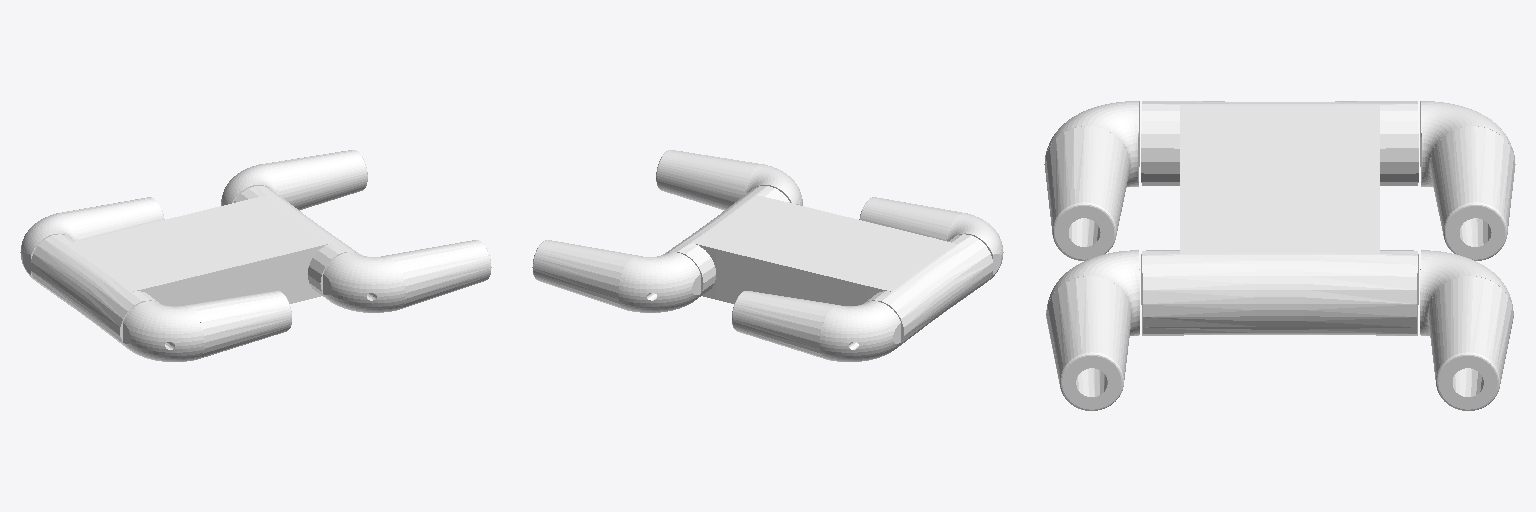
robot.urdf — 1_degree:
<?xml version="1.0" encoding="utf-8"?>
<!-- This URDF was automatically created by SolidWorks to URDF Exporter! Originally created by [author] ([email redacted]) 
     Commit Version: 1.5.1-0-g916b5db  Build Version: 1.5.7152.31018
     For more information, please see http://wiki.ros.org/sw_urdf_exporter -->
<robot
  name="1_degree">
  <link
    name="base_link">
    <inertial>
      <origin
        xyz="3.4694E-17 4.0355E-09 -3.4694E-18"
        rpy="0 0 0" />
      <mass
        value="2.942" />
      <inertia
        ixx="0.0103161"
        ixy="4.4465E-18"
        ixz="-1.4804E-10"
        iyy="0.0373964"
        iyz="7.5414E-18"
        izz="0.0453257" />
    </inertial>
    <visual>
      <origin
        xyz="0 0 0"
        rpy="0 0 0" />
      <geometry>
        <mesh
          filename="package://1_degree/meshes/base_link.STL" />
      </geometry>
      <material
        name="">
        <color
          rgba="1 1 1 1" />
      </material>
    </visual>
    <collision>
      <origin
        xyz="0 0 0"
        rpy="0 0 0" />
      <geometry>
        <mesh
          filename="package://1_degree/meshes/base_link.STL" />
      </geometry>
    </collision>
  </link>
  <link
    name="left_front_link">
    <inertial>
      <origin
        xyz="-2.165E-08 0.057449 -0.035013"
        rpy="0 0 0" />
      <mass
        value="0.092" />
      <inertia
        ixx="0.0002604"
        ixy="8.5415E-10"
        ixz="4.8859E-10"
        iyy="0.0000519"
        iyz="1.91E-05"
        izz="0.0002583" />
    </inertial>
    <visual>
      <origin
        xyz="0 0 0"
        rpy="0 0 0" />
      <geometry>
        <mesh
          filename="package://1_degree/meshes/left_front_link.STL" />
      </geometry>
      <material
        name="">
        <color
          rgba="1 1 1 1" />
      </material>
    </visual>
    <collision>
      <origin
        xyz="0 0 0"
        rpy="0 0 0" />
      <geometry>
        <mesh
          filename="package://1_degree/meshes/left_front_link.STL" />
      </geometry>
    </collision>
  </link>
  <joint
    name="left_front_leg"
    type="continuous">
    <origin
      xyz="0.1318 0.10298 0"
      rpy="1.5708 1.5708 0" />
    <parent
      link="base_link" />
    <child
      link="left_front_link" />
    <axis
      xyz="0 0.017452 -0.99985" />
    <limit
      effort="5"
      velocity="487" />
  </joint>
  <link
    name="right_front_link">
    <inertial>
      <origin
        xyz="2.165E-08 0.057449 0.035013"
        rpy="0 0 0" />
      <mass
        value="0.092" />
      <inertia
        ixx="0.0002604"
        ixy="-8.5415E-10"
        ixz="4.8859E-10"
        iyy="0.0000519"
        iyz="-1.91E-05"
        izz="0.0002583" />
    </inertial>
    <visual>
      <origin
        xyz="0 0 0"
        rpy="0 0 0" />
      <geometry>
        <mesh
          filename="package://1_degree/meshes/right_front_link.STL" />
      </geometry>
      <material
        name="">
        <color
          rgba="1 1 1 1" />
      </material>
    </visual>
    <collision>
      <origin
        xyz="0 0 0"
        rpy="0 0 0" />
      <geometry>
        <mesh
          filename="package://1_degree/meshes/right_front_link.STL" />
      </geometry>
    </collision>
  </link>
  <joint
    name="right_front_leg"
    type="continuous">
    <origin
      xyz="0.1318 -0.10298 0"
      rpy="1.5708 1.5708 0" />
    <parent
      link="base_link" />
    <child
      link="right_front_link" />
    <axis
      xyz="0 0.017452 0.99985" />
    <limit
      effort="5"
      velocity="487" />
  </joint>
  <link
    name="right_back_link">
    <inertial>
      <origin
        xyz="1.5564E-08 0.05683 0.036011"
        rpy="0 0 0" />
      <mass
        value="0.092" />
      <inertia
        ixx="0.0002604"
        ixy="-7.4738E-10"
        ixz="7.4422E-10"
        iyy="0.0000526"
        iyz="-2.27E-05"
        izz="0.0002575" />
    </inertial>
    <visual>
      <origin
        xyz="0 0 0"
        rpy="0 0 0" />
      <geometry>
        <mesh
          filename="package://1_degree/meshes/right_back_link.STL" />
      </geometry>
      <material
        name="">
        <color
          rgba="1 1 1 1" />
      </material>
    </visual>
    <collision>
      <origin
        xyz="0 0 0"
        rpy="0 0 0" />
      <geometry>
        <mesh
          filename="package://1_degree/meshes/right_back_link.STL" />
      </geometry>
    </collision>
  </link>
  <joint
    name="right_back_leg"
    type="continuous">
    <origin
      xyz="-0.1318 -0.10298 0"
      rpy="1.5882 1.5708 0" />
    <parent
      link="base_link" />
    <child
      link="right_back_link" />
    <axis
      xyz="0 0 1" />
    <limit
      effort="5"
      velocity="487" />
  </joint>
  <link
    name="left_back_link">
    <inertial>
      <origin
        xyz="-1.5564E-08 0.056193 -0.036997"
        rpy="0 0 0" />
      <mass
        value="0.092" />
      <inertia
        ixx="0.0002604"
        ixy="7.6025E-10"
        ixz="7.3106E-10"
        iyy="0.0000535"
        iyz="0.0000262"
        izz="0.0002567" />
    </inertial>
    <visual>
      <origin
        xyz="0 0 0"
        rpy="0 0 0" />
      <geometry>
        <mesh
          filename="package://1_degree/meshes/left_back_link.STL" />
      </geometry>
      <material
        name="">
        <color
          rgba="1 1 1 1" />
      </material>
    </visual>
    <collision>
      <origin
        xyz="0 0 0"
        rpy="0 0 0" />
      <geometry>
        <mesh
          filename="package://1_degree/meshes/left_back_link.STL" />
      </geometry>
    </collision>
  </link>
  <joint
    name="left_back_leg"
    type="continuous">
    <origin
      xyz="-0.1318 0.10298 0"
      rpy="1.5708 1.5708 0" />
    <parent
      link="base_link" />
    <child
      link="left_back_link" />
    <axis
      xyz="0 -0.017452 -0.99985" />
    <limit
      effort="5"
      velocity="487" />
  </joint>
</robot>

--- What the picture shows (computed from the rendered views, not written in the file) ---
3 views of the same robot in one strip: view 1: azimuth 30°, elevation 25°; view 2: azimuth 150°, elevation 25°; view 3: azimuth 270°, elevation 25° (orthographic).
Model 1_degree with 5 links and 4 joints (4 continuous), rooted at base_link, posed all joints at 0.
Visible links, largest first — view 1: base_link, right_back_link, right_front_link, left_front_link, left_back_link; view 2: base_link, left_back_link, left_front_link, right_front_link, right_back_link; view 3: base_link, right_back_link, left_back_link, right_front_link, left_front_link.
Link boxes in pixels (x1,y1,x2,y2): base_link: (31, 186, 360, 346); right_back_link: (123, 291, 291, 361); right_front_link: (323, 240, 491, 312); left_front_link: (221, 150, 367, 210); left_back_link: (20, 197, 164, 281); base_link: (663, 186, 992, 346); left_back_link: (732, 291, 900, 361); left_front_link: (532, 240, 700, 312); right_front_link: (656, 150, 802, 210); right_back_link: (859, 197, 1003, 281); base_link: (1141, 101, 1418, 335); right_back_link: (1044, 101, 1139, 260); left_back_link: (1420, 101, 1515, 260); right_front_link: (1046, 250, 1139, 410); left_front_link: (1420, 250, 1513, 410).
Bounding box of the posed robot: 0.4542 × 0.3517 × 0.064 m (x, y, z).
5 mesh visuals loaded from 5 distinct referenced files (5 binary STL).